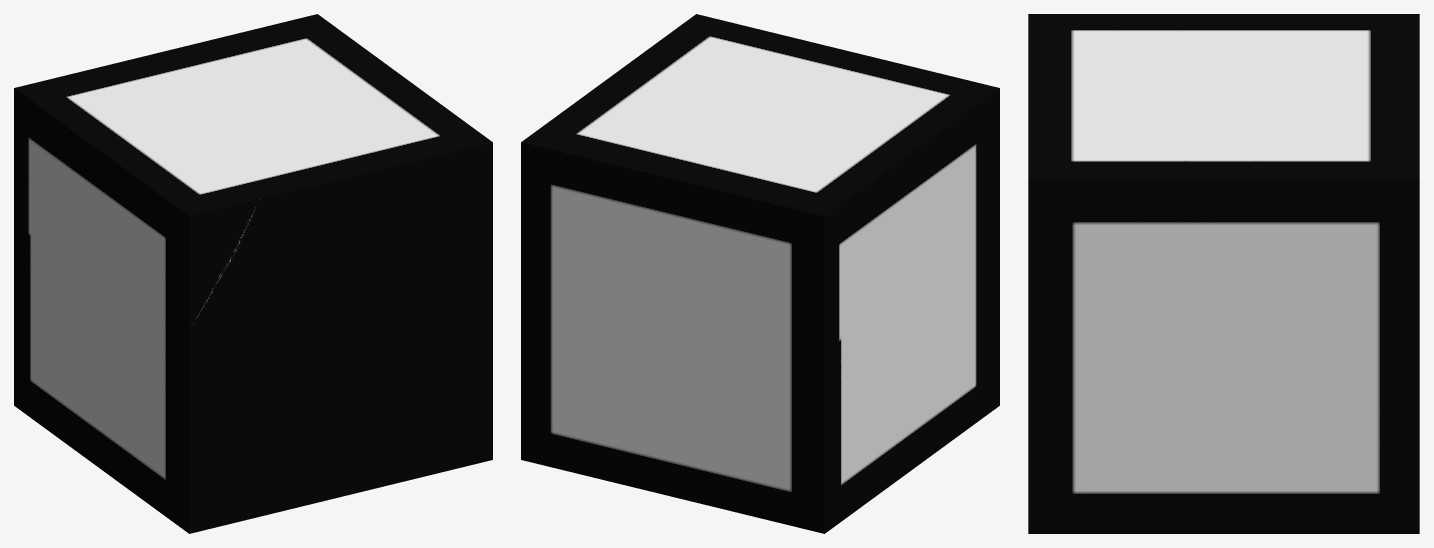
The model's file is VFX_Cube_Clap.fbx.
The picture shows the model from 3 angles, left to right: view 1: azimuth 30°, elevation 25°; view 2: azimuth 150°, elevation 25°; view 3: azimuth 270°, elevation 25°; orthographic projection. The views are drawn at different scales.
Parts seen in each view (by area): view 1: CubeP1, CubeP3, CubeP6, CubeP4, CubeP2, CubeP5; view 2: CubeP3, CubeP6, CubeP2, CubeP1, CubeP4, CubeP5; view 3: CubeP6, CubeP4, CubeP3, CubeP1, CubeP5.
Part boxes in pixels (box(x1,y1,x2,y2)): CubeP1: box(96, 122, 399, 533); CubeP3: box(14, 38, 314, 303); CubeP6: box(220, 14, 492, 326); CubeP4: box(189, 308, 492, 533); CubeP2: box(14, 265, 188, 533); CubeP5: box(119, 165, 259, 330); CubeP3: box(619, 89, 935, 393); CubeP6: box(521, 14, 788, 509); CubeP2: box(714, 305, 999, 533); CubeP1: box(744, 36, 999, 405); CubeP4: box(521, 389, 726, 509); CubeP5: box(929, 71, 999, 202); CubeP6: box(1028, 118, 1419, 454); CubeP4: box(1028, 385, 1419, 533); CubeP3: box(1174, 14, 1419, 125); CubeP1: box(1028, 14, 1185, 128); CubeP5: box(1028, 14, 1184, 52).
Bounding box in the file's own units: 100 × 100 × 100.
